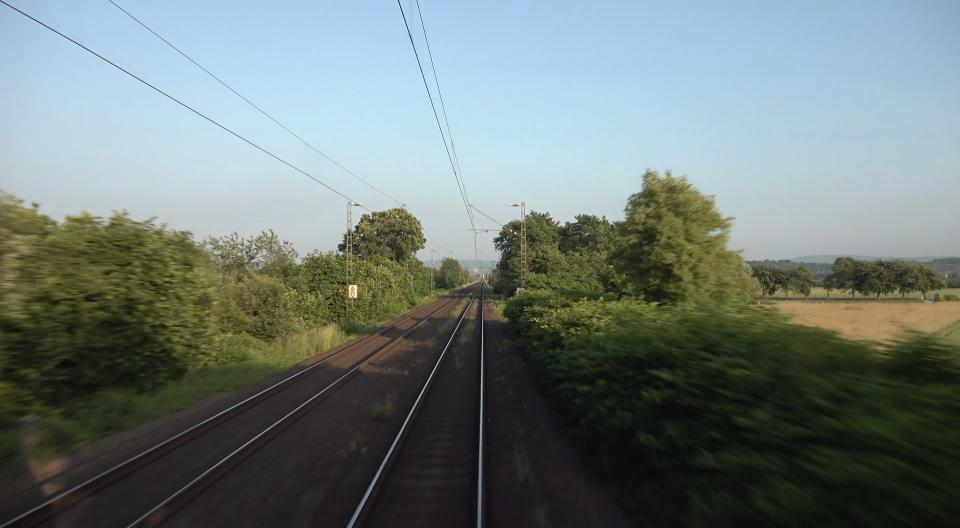Plant: (425, 287, 478, 350), (450, 288, 481, 367), (366, 387, 398, 421), (486, 300, 507, 323)
